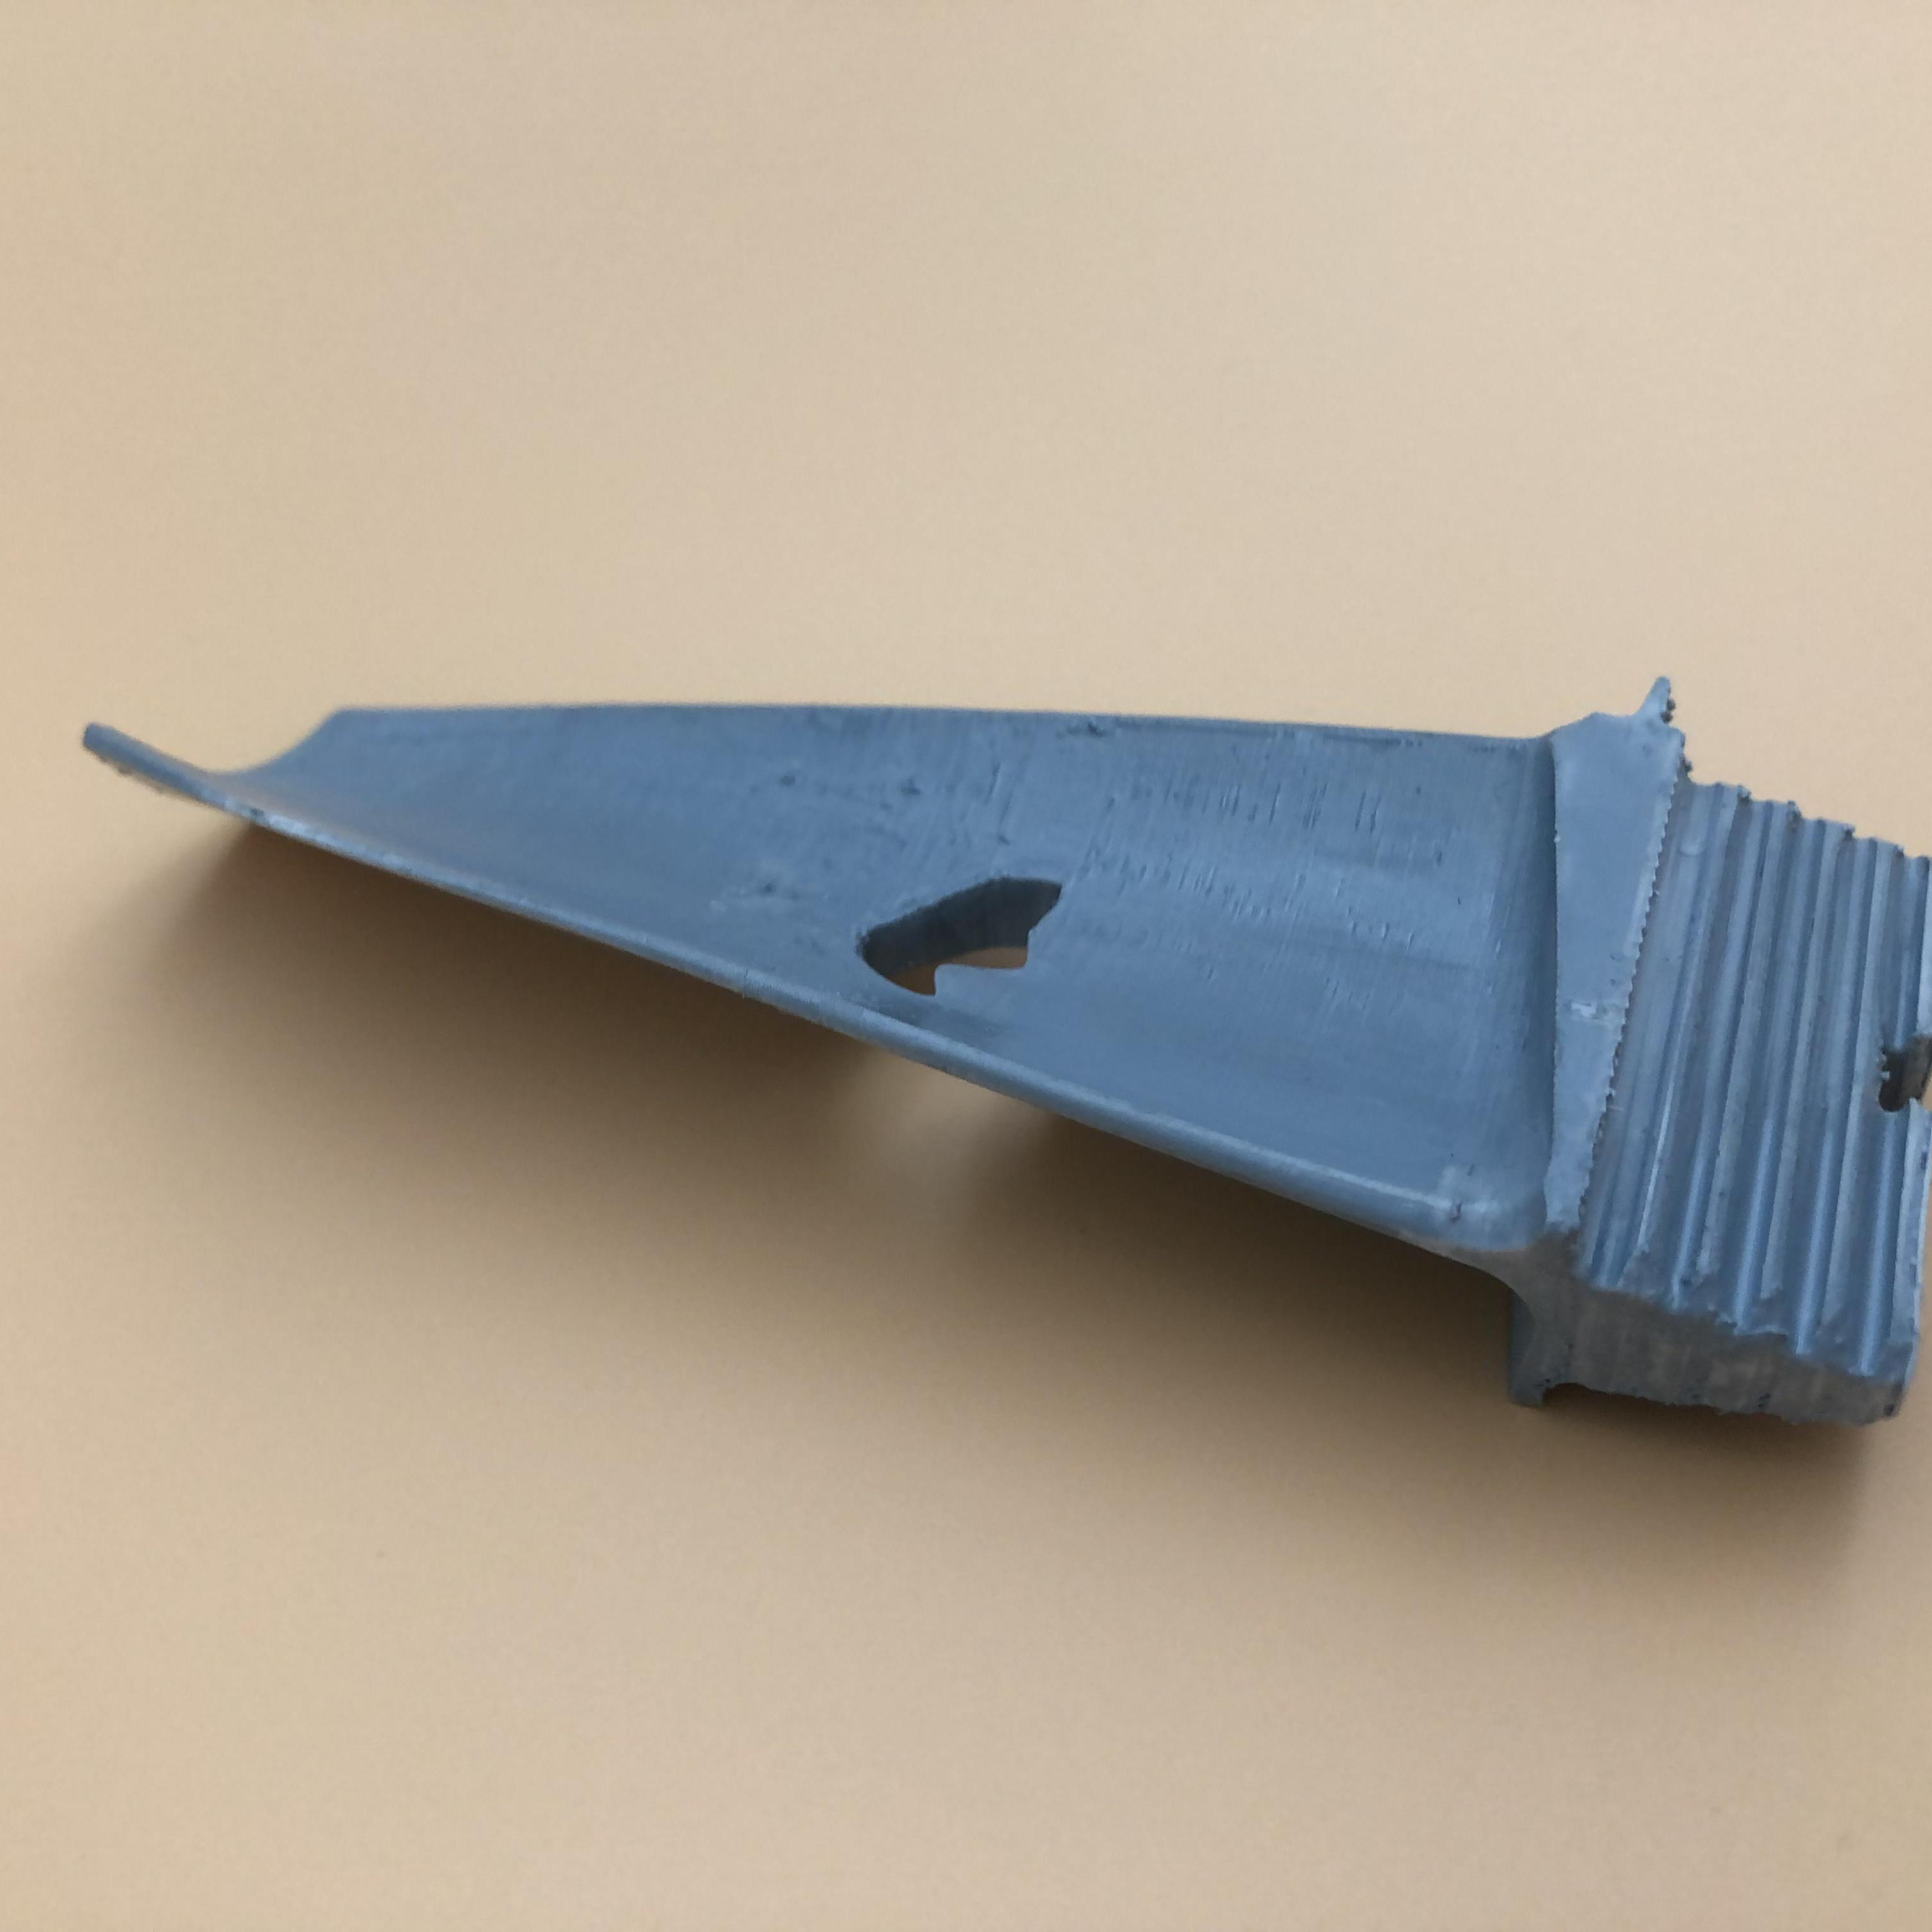breakdown: (863, 872, 1077, 989)
